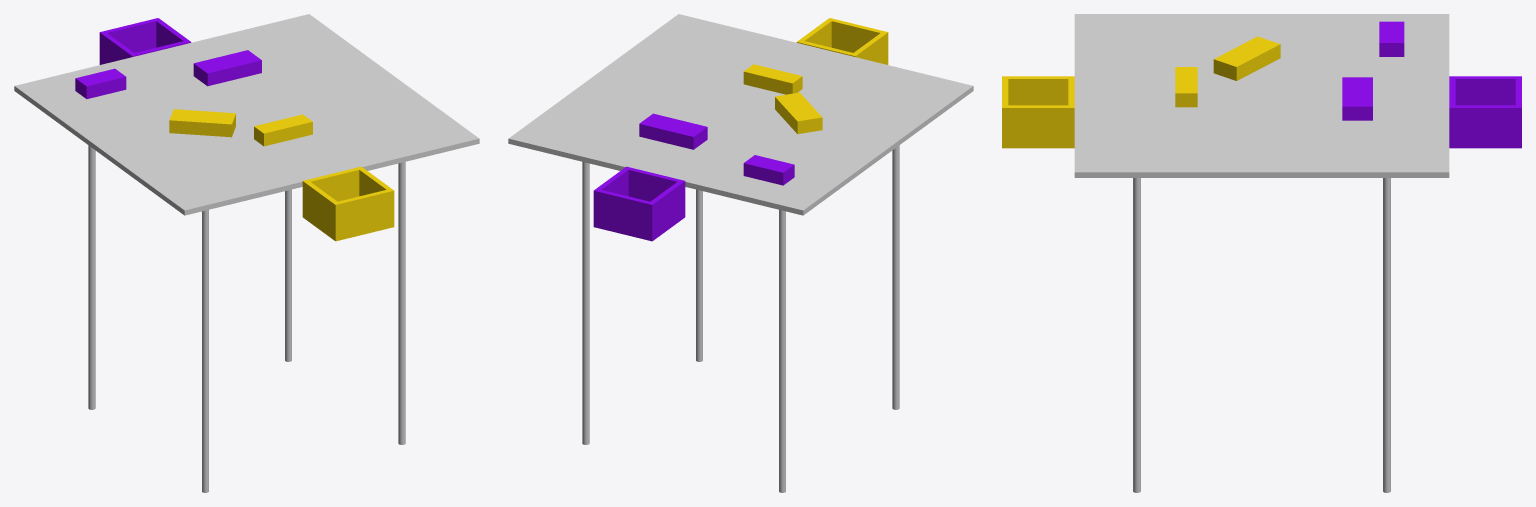
The model's file is Mesa.dae.
3 renders of one model, left to right at view 1: azimuth 30°, elevation 25°; view 2: azimuth 150°, elevation 25°; view 3: azimuth 270°, elevation 25°, orthographic. The views are drawn at different scales.
Parts seen in each view (by area): view 1: node_d07c4db0_5beb_42dd_b869_9fc465ded134_mesh2, node_d07c4db0_5beb_42dd_b869_9fc465ded134_mesh0, node_d07c4db0_5beb_42dd_b869_9fc465ded134_mesh1; view 2: node_d07c4db0_5beb_42dd_b869_9fc465ded134_mesh2, node_d07c4db0_5beb_42dd_b869_9fc465ded134_mesh1, node_d07c4db0_5beb_42dd_b869_9fc465ded134_mesh0; view 3: node_d07c4db0_5beb_42dd_b869_9fc465ded134_mesh2, node_d07c4db0_5beb_42dd_b869_9fc465ded134_mesh0, node_d07c4db0_5beb_42dd_b869_9fc465ded134_mesh1.
Boxes of the visible parts, <box> form: node_d07c4db0_5beb_42dd_b869_9fc465ded134_mesh2: <box>14,14,479,492</box>; node_d07c4db0_5beb_42dd_b869_9fc465ded134_mesh0: <box>169,109,394,241</box>; node_d07c4db0_5beb_42dd_b869_9fc465ded134_mesh1: <box>75,18,261,98</box>; node_d07c4db0_5beb_42dd_b869_9fc465ded134_mesh2: <box>508,14,973,492</box>; node_d07c4db0_5beb_42dd_b869_9fc465ded134_mesh1: <box>593,113,794,241</box>; node_d07c4db0_5beb_42dd_b869_9fc465ded134_mesh0: <box>743,18,888,134</box>; node_d07c4db0_5beb_42dd_b869_9fc465ded134_mesh2: <box>1074,14,1449,492</box>; node_d07c4db0_5beb_42dd_b869_9fc465ded134_mesh0: <box>1002,36,1280,148</box>; node_d07c4db0_5beb_42dd_b869_9fc465ded134_mesh1: <box>1342,21,1521,148</box>.
Size of the model in its own units: 0.6 by 0.6349 by 0.832.
